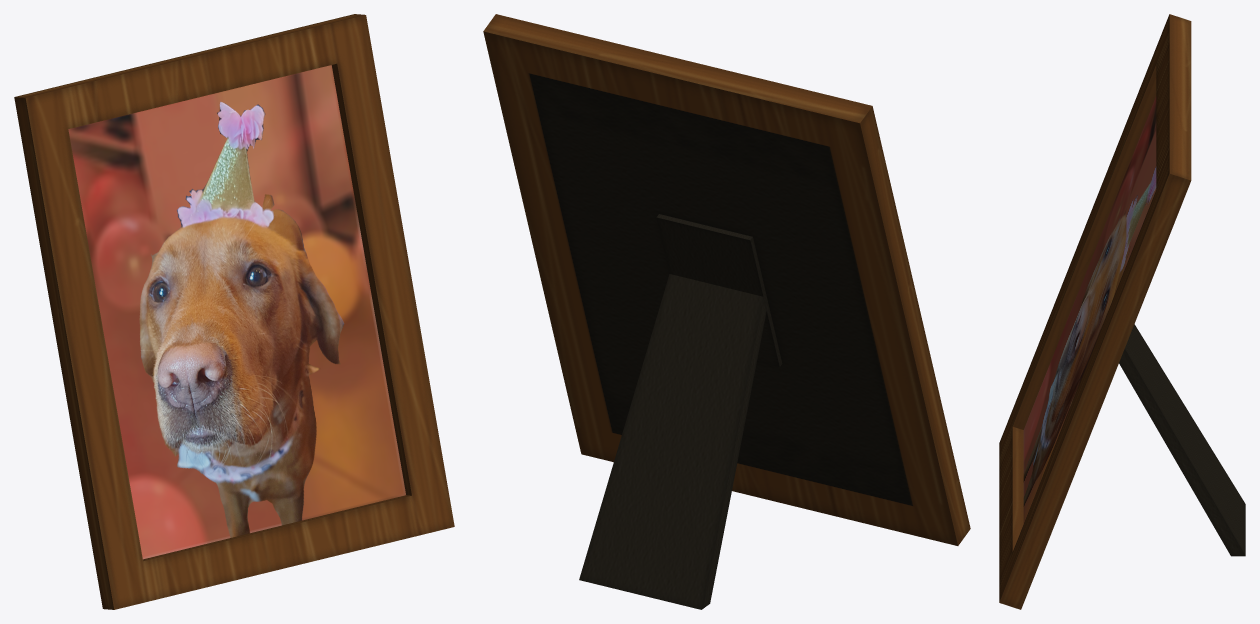
Rendered from dog_photo_frame.glb.
The picture shows the model from 3 angles, left to right: view 1: azimuth 30°, elevation 25°; view 2: azimuth 150°, elevation 25°; view 3: azimuth 270°, elevation 25°; orthographic projection. The views are drawn at different scales.
Parts seen in each view (by area): view 1: PhotoFrame; view 2: PhotoFrame; view 3: PhotoFrame.
Part boxes in pixels (box(x1,y1,x2,y2)): PhotoFrame: box(14, 14, 454, 609); PhotoFrame: box(483, 14, 970, 609); PhotoFrame: box(999, 14, 1245, 609).
Size of the model in its own units: 0.1496 by 0.1908 by 0.0977.
Materials: 1 (1 with a texture image).
